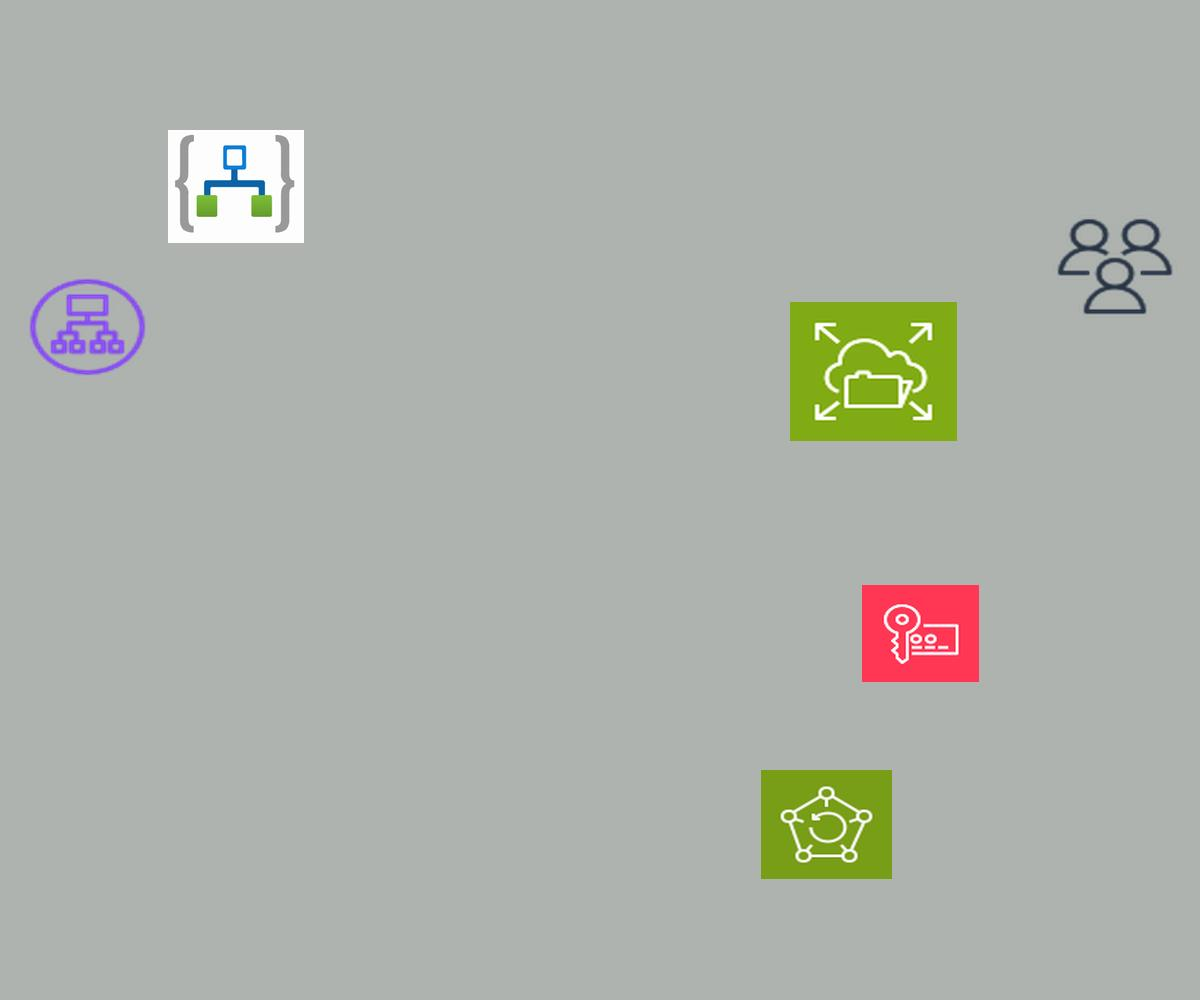AWS-Backup: (761, 770, 892, 879)
AWS-EFS: (790, 302, 957, 441)
AWS-Key-Management-Service: (862, 585, 979, 682)
AWS-Res_Elastic-Load-Balancing_Application-Load-Balancer: (25, 275, 150, 379)
AWS-Res_Users: (1053, 215, 1177, 318)
Azure_integration-204-Logic-Apps: (168, 130, 304, 243)
